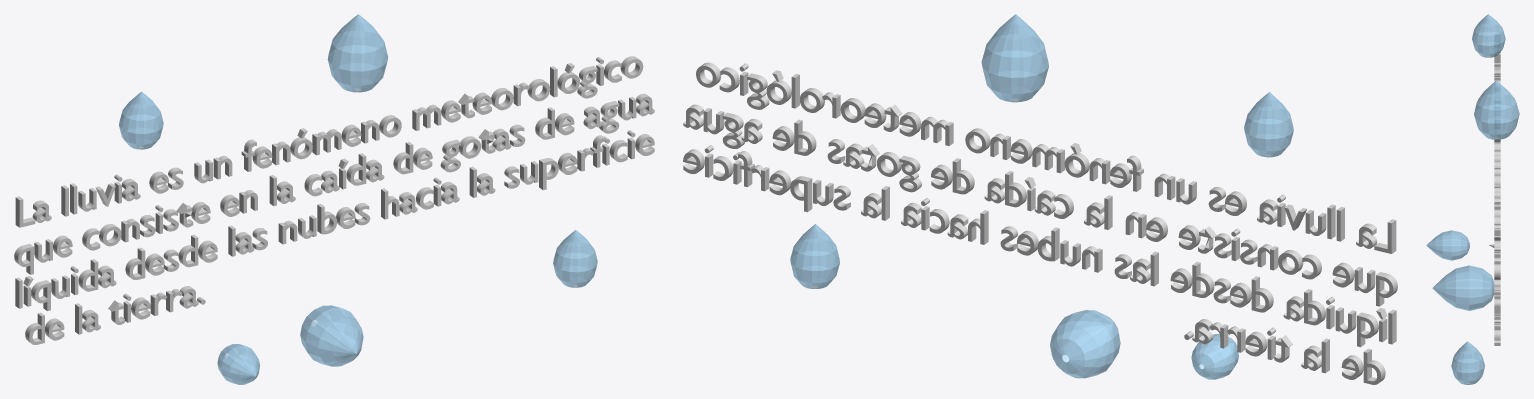
File: prefab1Gotas.fbx
3 views of the same model, side by side, from view 1: azimuth 30°, elevation 25°; view 2: azimuth 150°, elevation 25°; view 3: azimuth 270°, elevation 25° (orthographic). The views are drawn at different scales.
Visible parts, largest first — view 1: Texto, Gota_Pequena_01.001, Gota_Pequena_01, Gota_Pequena_01.003, Gota_Pequena_01.002, Gota_Pequena_02; view 2: Texto, Gota_Pequena_01.001, Gota_Pequena_01, Gota_Pequena_01.003, Gota_Pequena_01.002, Gota_Pequena_02; view 3: Texto, Gota_Pequena_01, Gota_Pequena_01.001, Gota_Pequena_01.003, Gota_Pequena_01.002, Gota_Pequena_02.
Part boxes in pixels (x1,y1,x2,y2): Texto: [14, 56, 654, 344]; Gota_Pequena_01.001: [327, 14, 388, 92]; Gota_Pequena_01: [300, 305, 363, 366]; Gota_Pequena_01.003: [119, 91, 163, 149]; Gota_Pequena_01.002: [553, 230, 597, 287]; Gota_Pequena_02: [217, 344, 259, 384]; Texto: [683, 62, 1397, 384]; Gota_Pequena_01.001: [981, 14, 1048, 102]; Gota_Pequena_01: [1050, 310, 1120, 378]; Gota_Pequena_01.003: [1244, 92, 1293, 157]; Gota_Pequena_01.002: [790, 224, 839, 288]; Gota_Pequena_02: [1191, 334, 1238, 379]; Texto: [1489, 34, 1500, 345]; Gota_Pequena_01: [1432, 265, 1494, 310]; Gota_Pequena_01.001: [1474, 81, 1519, 139]; Gota_Pequena_01.003: [1472, 14, 1505, 57]; Gota_Pequena_01.002: [1451, 341, 1484, 384]; Gota_Pequena_02: [1426, 230, 1469, 260].
Bounding box in the file's own units: 542 × 265 × 91.75.
